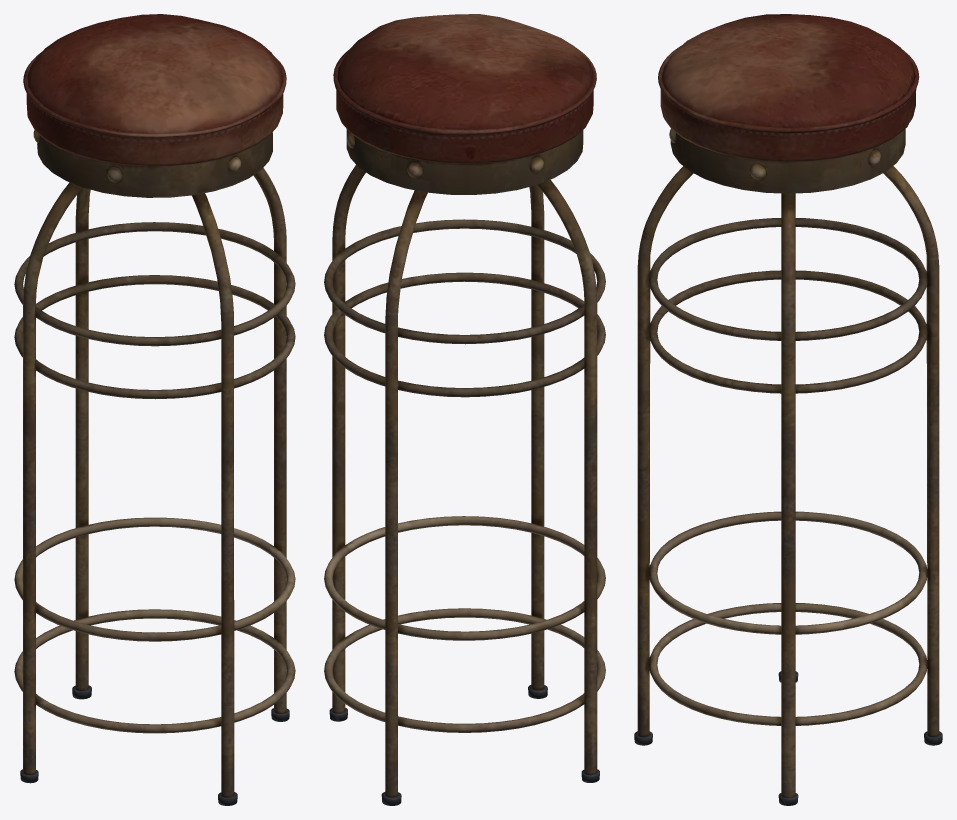
File: metal_stool_01.glb
The picture shows the model from 3 angles, left to right: view 1: azimuth 30°, elevation 25°; view 2: azimuth 150°, elevation 25°; view 3: azimuth 270°, elevation 25°; orthographic projection.
Visible parts, largest first — view 1: metal_stool_01; view 2: metal_stool_01; view 3: metal_stool_01.
Boxes of the visible parts, x1,y1,x2,y2 form: metal_stool_01: [14, 14, 295, 805]; metal_stool_01: [324, 14, 605, 805]; metal_stool_01: [634, 14, 942, 805].
Bounding box in the file's own units: 0.352 × 0.8828 × 0.3546.
1 material, 1 textured.
